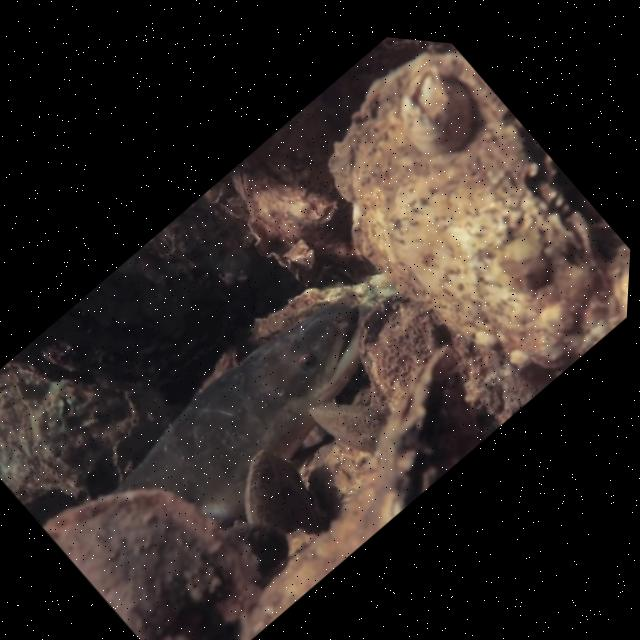Oyster-Closed: (327, 42, 614, 378), (346, 342, 479, 540), (232, 449, 323, 530), (308, 401, 391, 451)
Oyster-Indeterminate: (39, 479, 259, 640), (349, 282, 453, 413)
